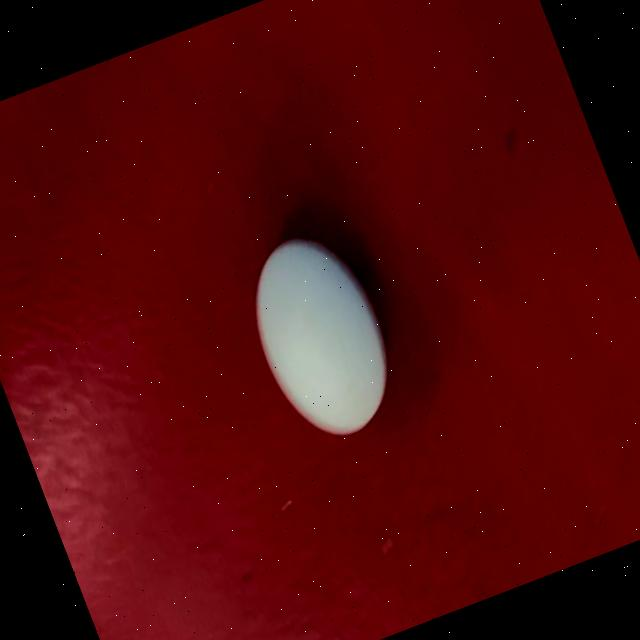ping-pong-ball: (220, 210, 415, 462)
